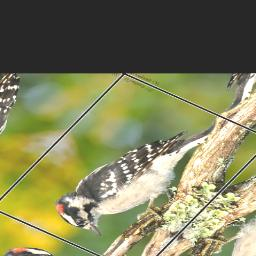Woodpecker: (42, 95, 243, 250)
